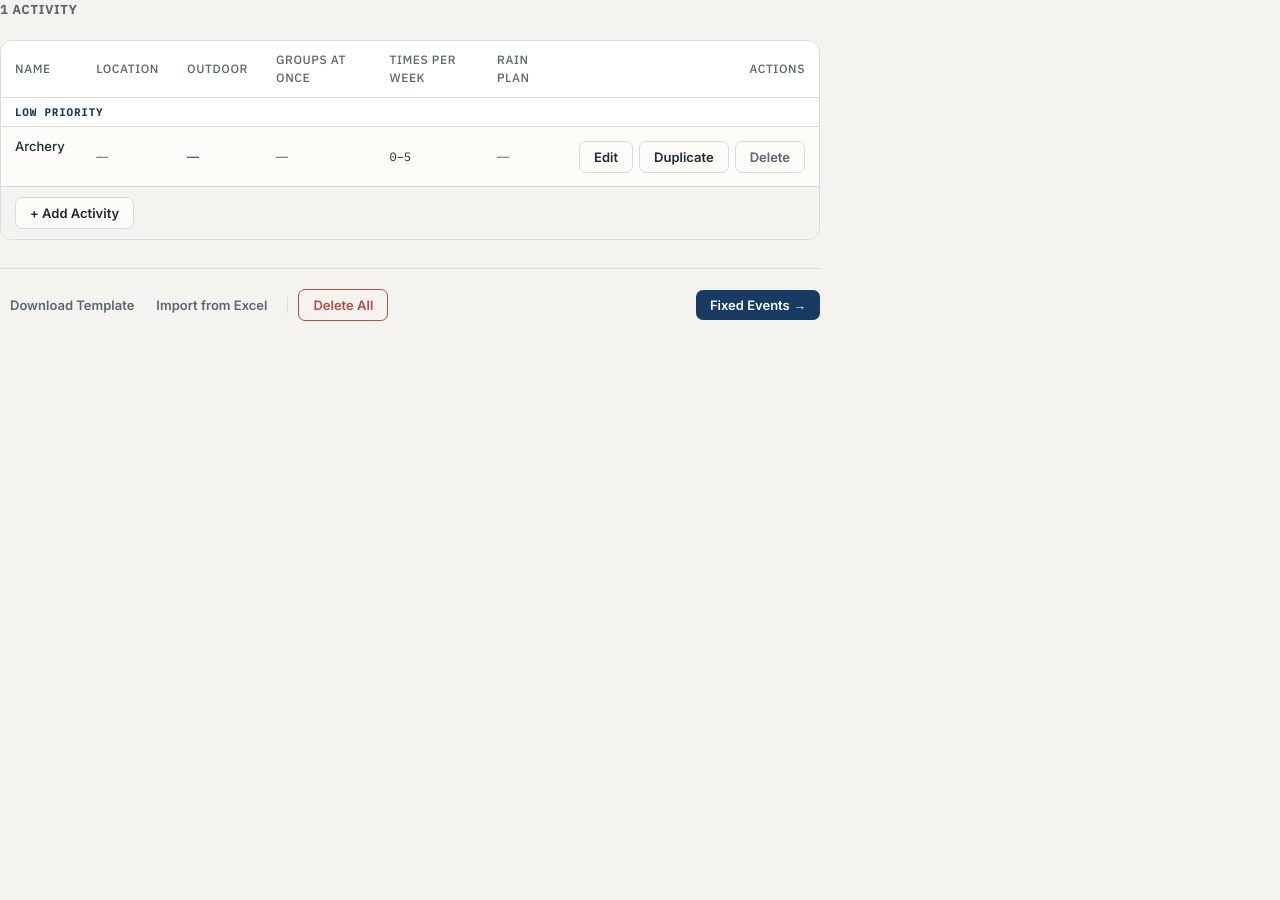
ActivitiesScreen — delete all › shows an admin-specific message when every delete fails due to role
Check: the button "Archery" is shown, box 15,138 -> 65,154
What coordinates should you click on to do the following:
click the button "Delete All"
I would click on:
 (343, 305)
Its box is 298,289 -> 388,321.
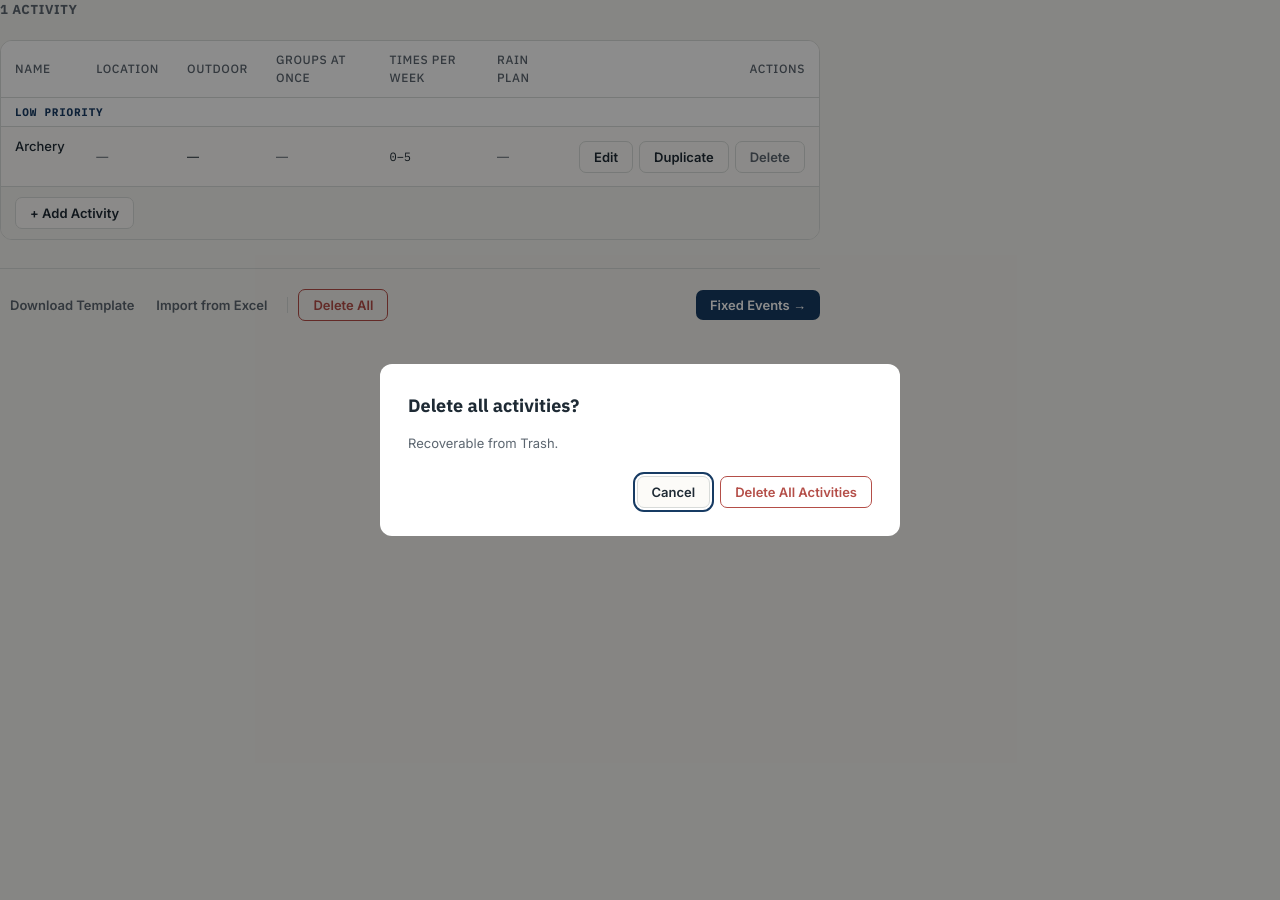
Check: the text "Delete all activities?" is shown, box 408,394 -> 579,417
What coordinates should you click on to do the following:
click the button "Delete All Activities"
I would click on:
 (796, 492)
Its box is 720,476 -> 872,508.
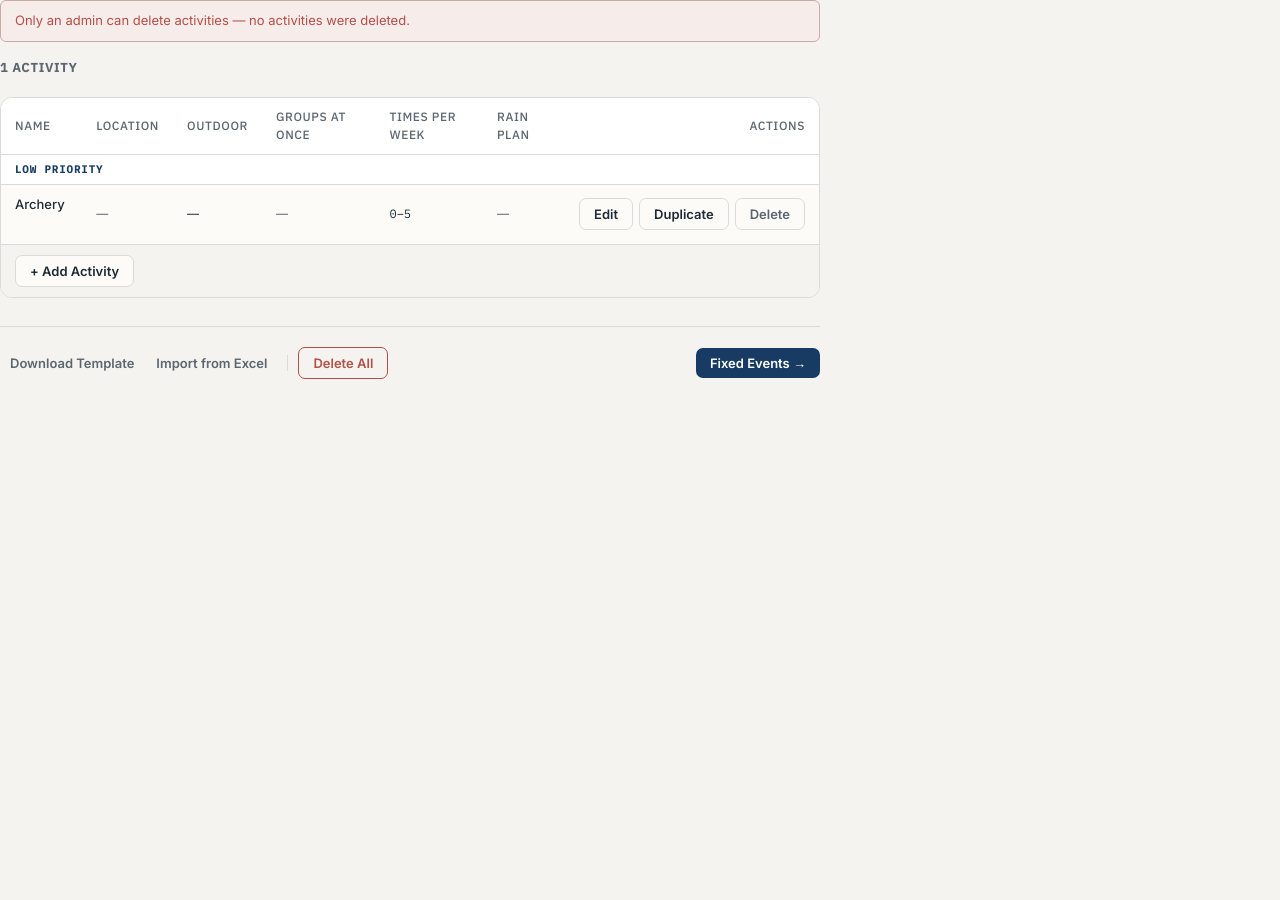
Check: the text "Only an admin can delete activities" is shown, box 15,12 -> 410,28
